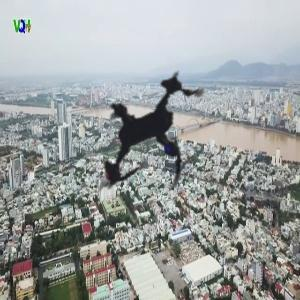drone: (23, 6, 274, 257)
